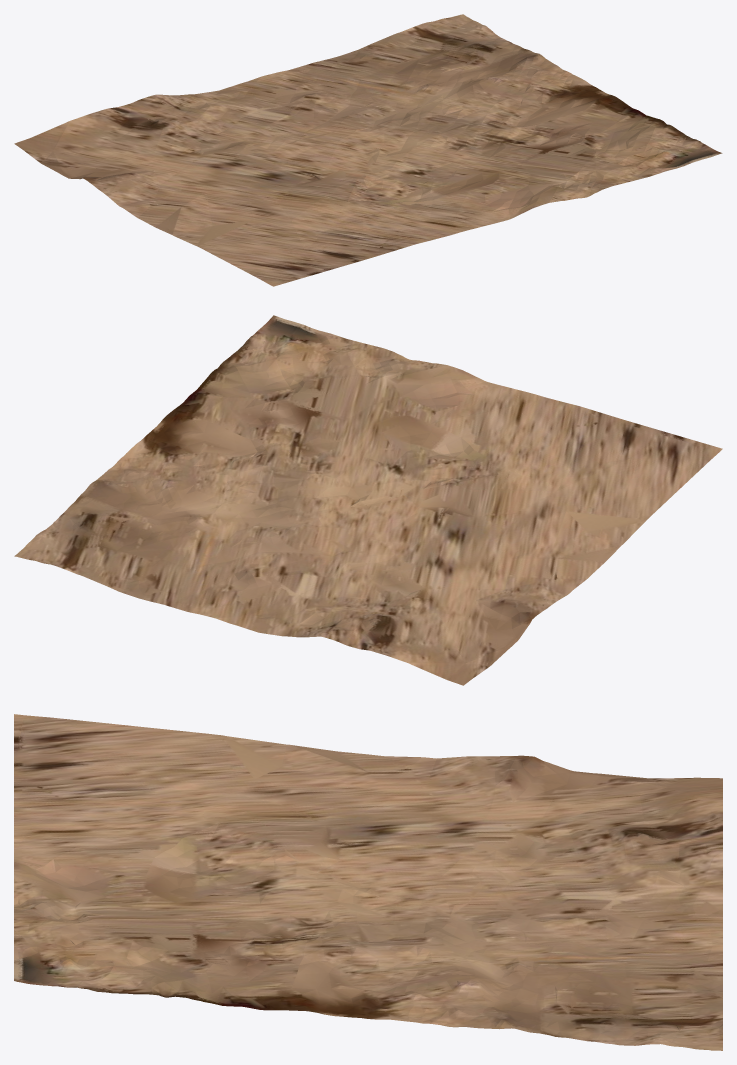
3 renders of one model, top to bottom at view 1: azimuth 30°, elevation 25°; view 2: azimuth 150°, elevation 25°; view 3: azimuth 270°, elevation 25°, orthographic. The views are drawn at different scales.
Bounding box in the file's own units: 4.18 × 0.6307 × 4.18.
Materials: 2 (2 with a texture image).
